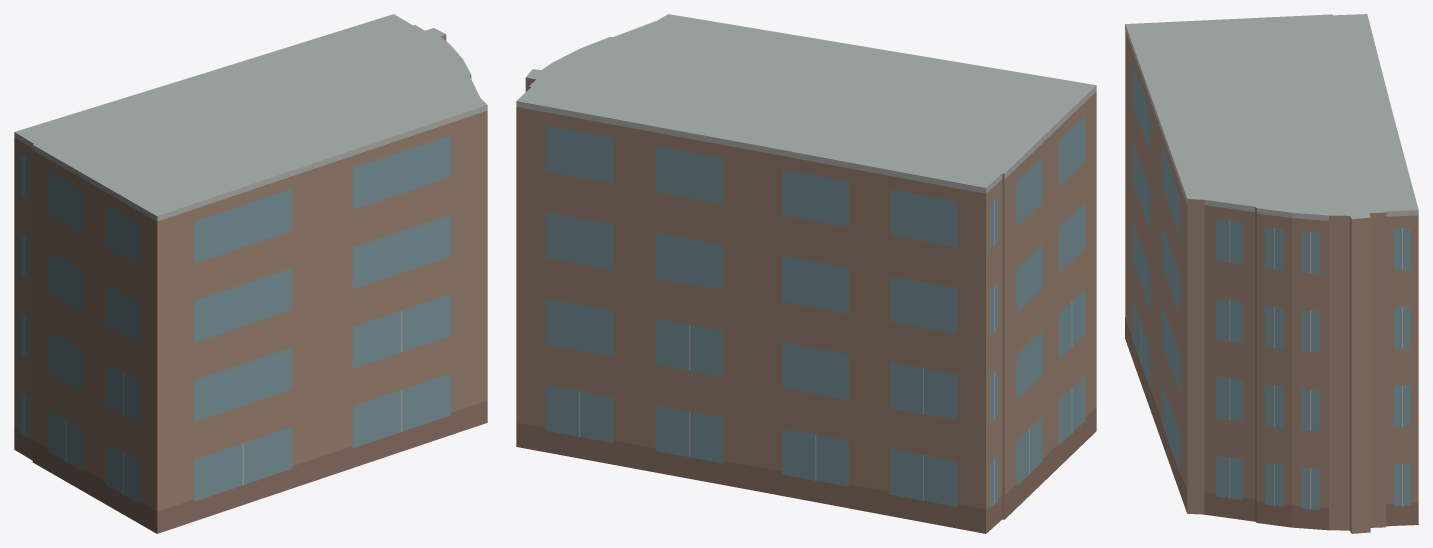
File: survey-upis-33003490.glb
The picture shows the model from 3 angles, left to right: view 1: azimuth 30°, elevation 25°; view 2: azimuth 150°, elevation 25°; view 3: azimuth 270°, elevation 25°; orthographic projection. The views are drawn at different scales.
Visible parts, largest first — view 1: survey-upis-33003490.tmp; view 2: survey-upis-33003490.tmp; view 3: survey-upis-33003490.tmp.
Part boxes in pixels (bbox=[...]): survey-upis-33003490.tmp: bbox=[14, 14, 487, 533]; survey-upis-33003490.tmp: bbox=[516, 14, 1096, 533]; survey-upis-33003490.tmp: bbox=[1125, 14, 1418, 533].
Bounding box in the file's own units: 20.13 × 14.4 × 12.18.
